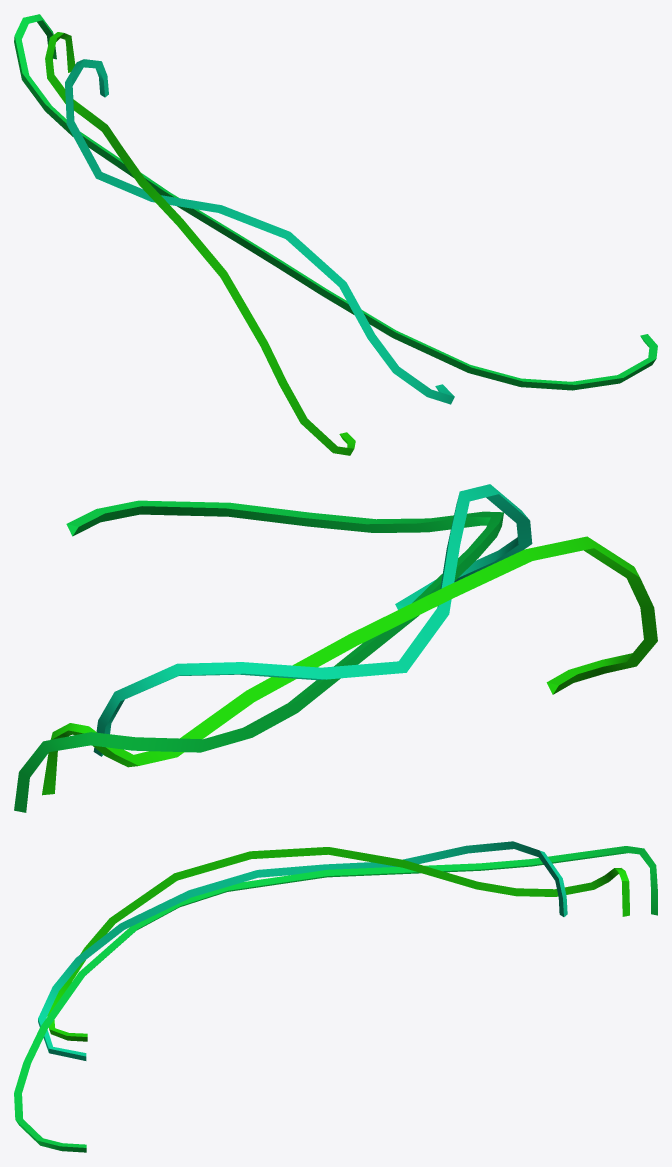
3 views of the same model, one above another, from view 1: azimuth 30°, elevation 25°; view 2: azimuth 150°, elevation 25°; view 3: azimuth 270°, elevation 25° (orthographic). The views are drawn at different scales.
Visible parts, largest first — view 1: models/weapons/w_eq_c4.002; view 2: models/weapons/w_eq_c4.002; view 3: models/weapons/w_eq_c4.002.
Boxes of the visible parts, <box> form: models/weapons/w_eq_c4.002: <box>14,14,657,455</box>; models/weapons/w_eq_c4.002: <box>14,484,657,812</box>; models/weapons/w_eq_c4.002: <box>14,841,657,1152</box>.
Size of the model in its own units: 20.14 by 10.25 by 32.13.
